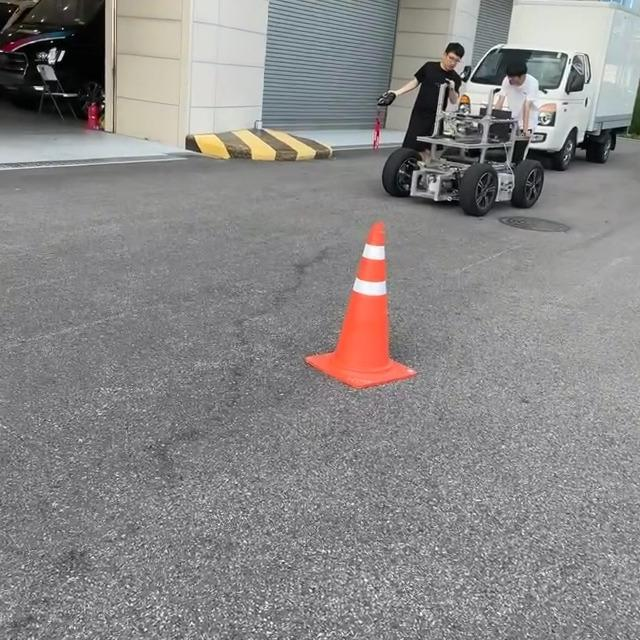fallen_object: (289, 213, 440, 405)
